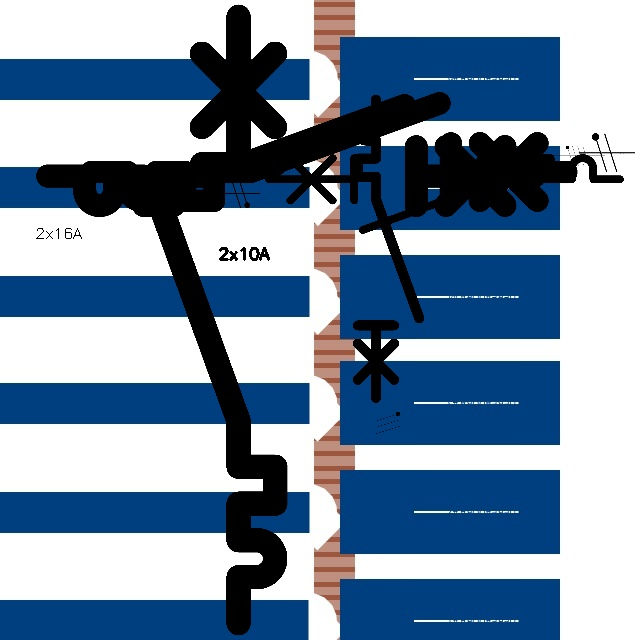interruptor_termomagnetico: (135, 1, 291, 639), (35, 93, 547, 218), (79, 91, 578, 213), (259, 149, 628, 239), (350, 92, 426, 405)
